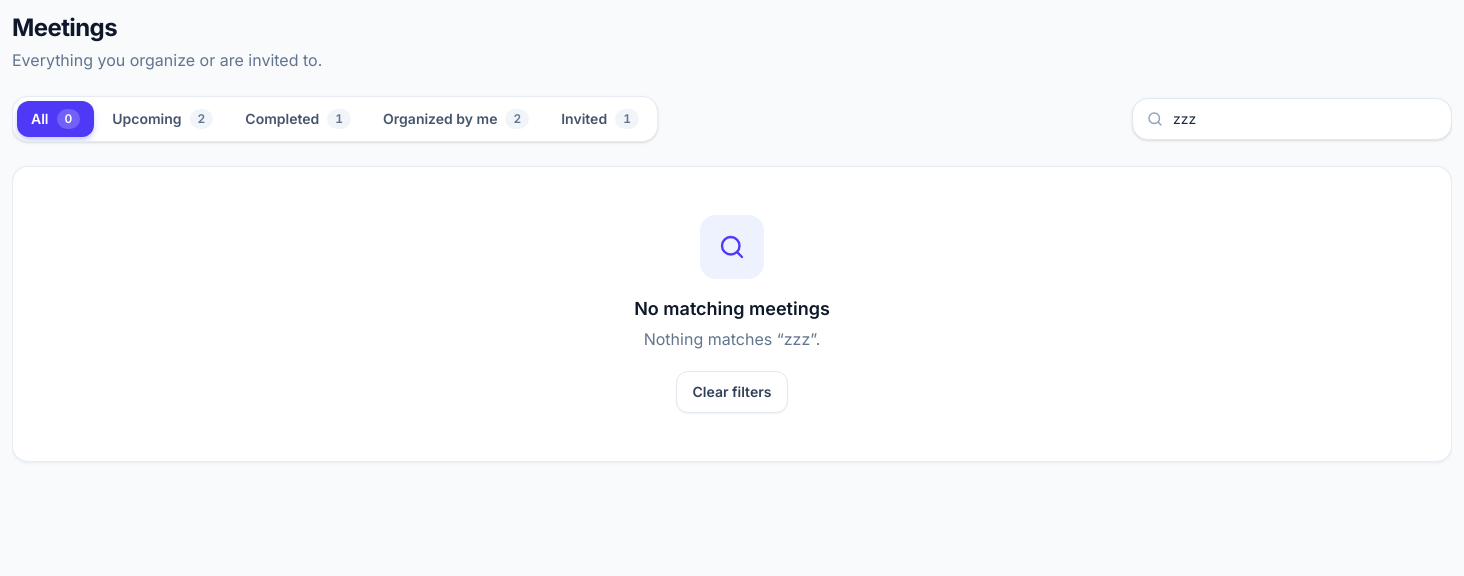
Test case: MeetingsPage › offers to clear filters when nothing matches
Expected: the heading "No matching meetings" is shown, top-left (634, 298), bottom-right (830, 319)
Expected: the text "Nothing matches “zzz”." is shown, top-left (644, 329), bottom-right (820, 349)
What coordinates should you click on to do the following:
click the button "Clear filters"
I would click on:
 (732, 392)
Its box is top-left (676, 371), bottom-right (788, 413).
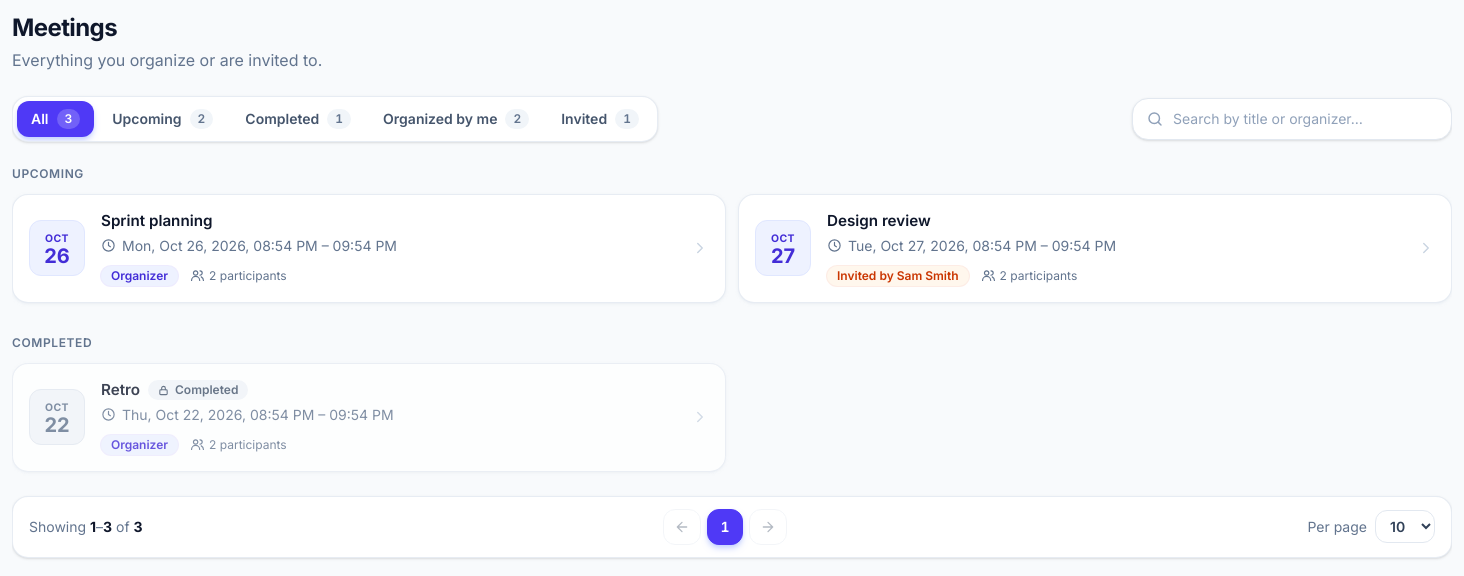
Result: the search field named "Search meetings" is empty at top-left (1132, 98), bottom-right (1452, 140)
